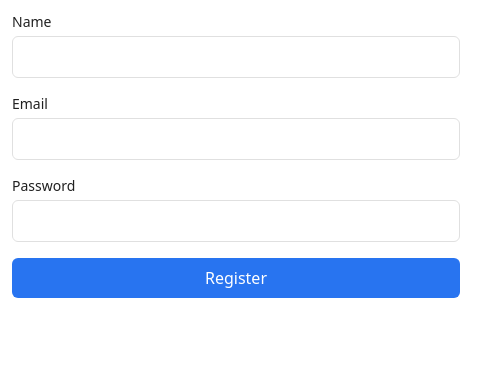
Test case: RegisterForm › shows validation errors for empty fields
This screenshot has width=478, height=388.
Click the button "Register" at (236, 278), box [12,258,460,298]
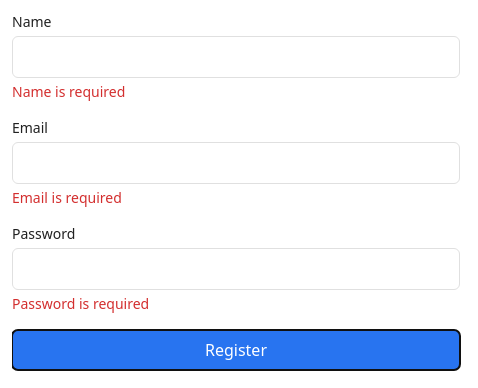
Now the text "Name is required" is shown, box [12,82,125,101]
